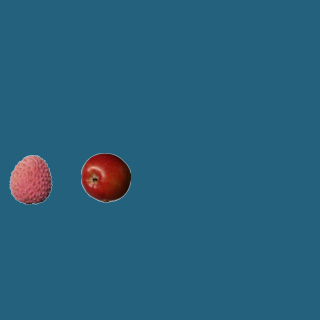Apple Braeburn: (80, 152, 130, 202)
Lychee: (5, 154, 55, 204)
